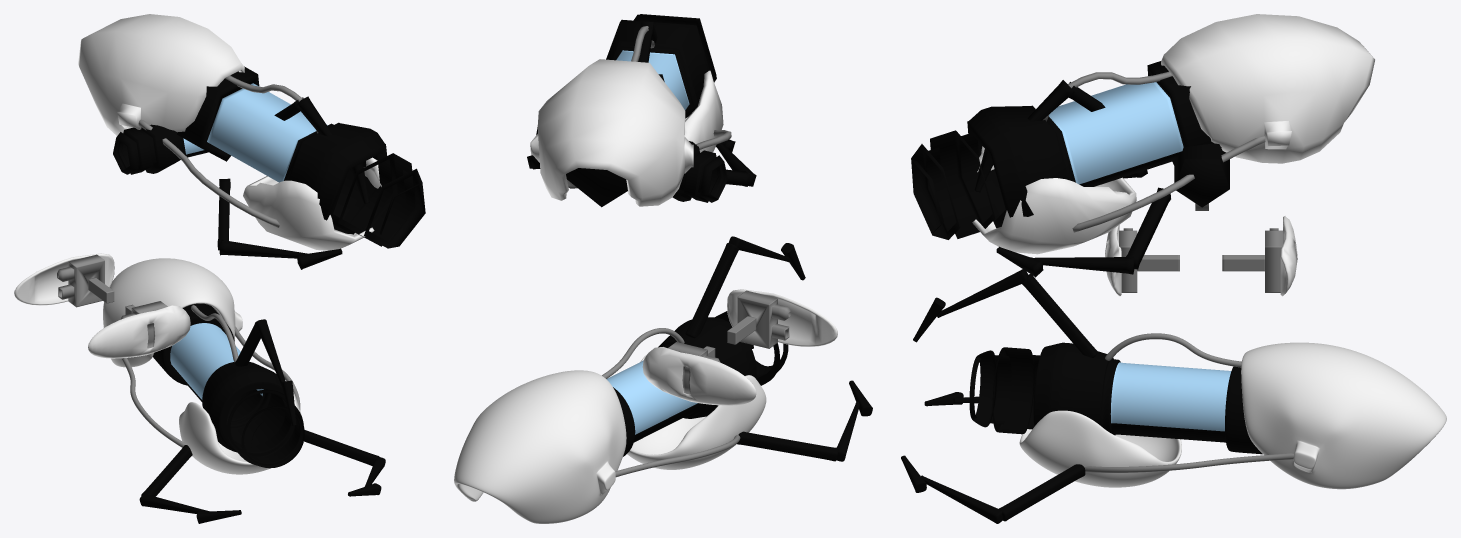
The model's file is portalgun.fbx.
3 renders of one model, left to right at view 1: azimuth 30°, elevation 25°; view 2: azimuth 150°, elevation 25°; view 3: azimuth 270°, elevation 25°, orthographic. The views are drawn at different scales.
Parts seen in each view (by area): view 1: Cube.009, Cube.007, Sphere.003, Sphere, Cube.005, Cube.010, Cube.008, Cube.012, Cube.003, Cube.006, Cube.002, Cube.004 (+2 smaller); view 2: Cube.007, Cube.009, Sphere, Sphere.003, Cube.002, Cube.003, Cube.005, Cube.012, Cube.010; view 3: Cube.009, Cube.007, Cube.010, Cube.011, Cube.008, Cube.002, Sphere.003, Cube.005, Cube.004, Cube.001, Cube.006, Sphere (+1 smaller).
Part boxes in pixels (<box>): Cube.009: <box>78,14,386,250</box>; Cube.007: <box>103,258,304,474</box>; Sphere.003: <box>14,253,114,307</box>; Sphere: <box>88,301,190,358</box>; Cube.005: <box>113,124,208,174</box>; Cube.010: <box>335,153,412,246</box>; Cube.008: <box>362,168,425,248</box>; Cube.012: <box>217,178,342,269</box>; Cube.003: <box>139,445,241,523</box>; Cube.006: <box>227,389,303,465</box>; Cube.002: <box>235,319,296,425</box>; Cube.004: <box>304,429,385,496</box>; Cube.007: <box>454,317,766,523</box>; Cube.009: <box>530,19,731,207</box>; Sphere: <box>727,289,837,348</box>; Sphere.003: <box>642,342,756,405</box>; Cube.002: <box>685,236,805,338</box>; Cube.003: <box>737,380,872,461</box>; Cube.005: <box>533,127,727,202</box>; Cube.012: <box>716,139,756,186</box>; Cube.010: <box>633,14,716,82</box>; Cube.009: <box>967,14,1374,254</box>; Cube.007: <box>1019,333,1446,489</box>; Cube.010: <box>930,130,999,238</box>; Cube.011: <box>996,187,1170,277</box>; Cube.008: <box>911,144,961,239</box>; Cube.002: <box>913,269,1097,357</box>; Sphere.003: <box>1222,216,1297,296</box>; Cube.005: <box>1174,143,1229,210</box>; Cube.004: <box>901,455,1085,523</box>; Cube.001: <box>969,350,1011,427</box>; Cube.006: <box>992,347,1039,434</box>; Sphere: <box>1105,225,1179,295</box>.
Bounding box in the file's own units: 233 × 318 × 349.
